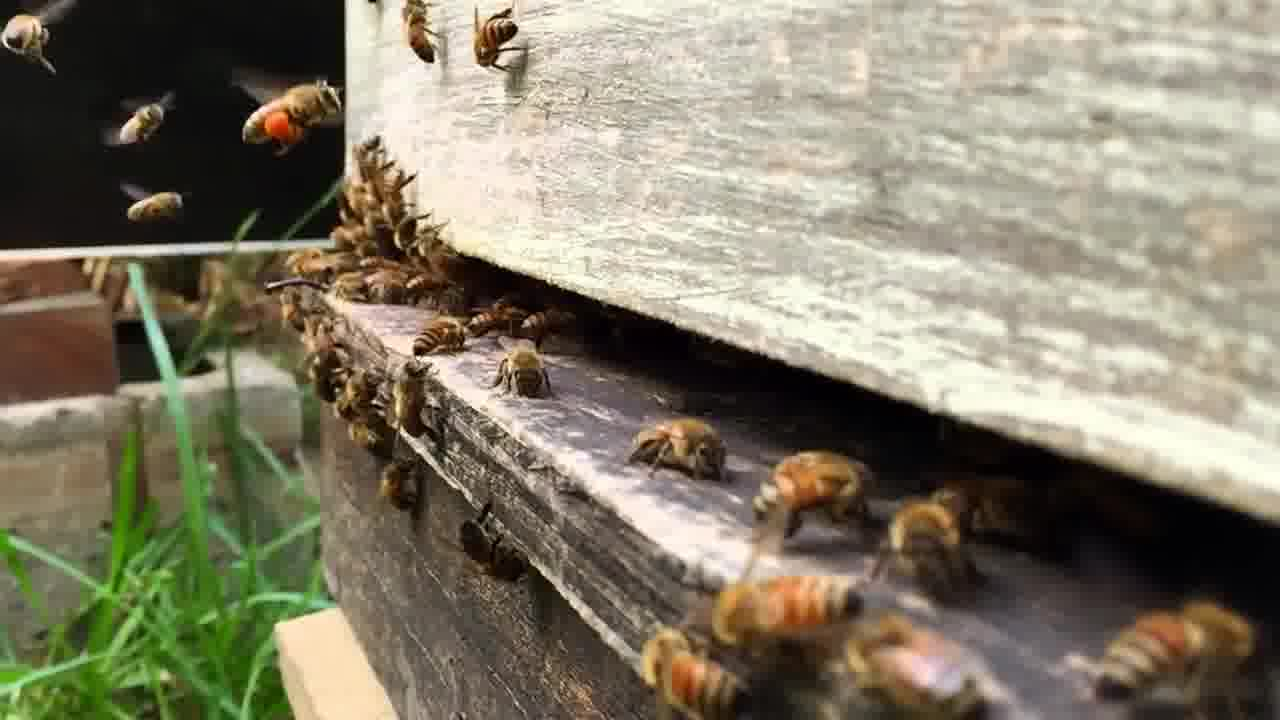pollen: (233, 71, 347, 151)
